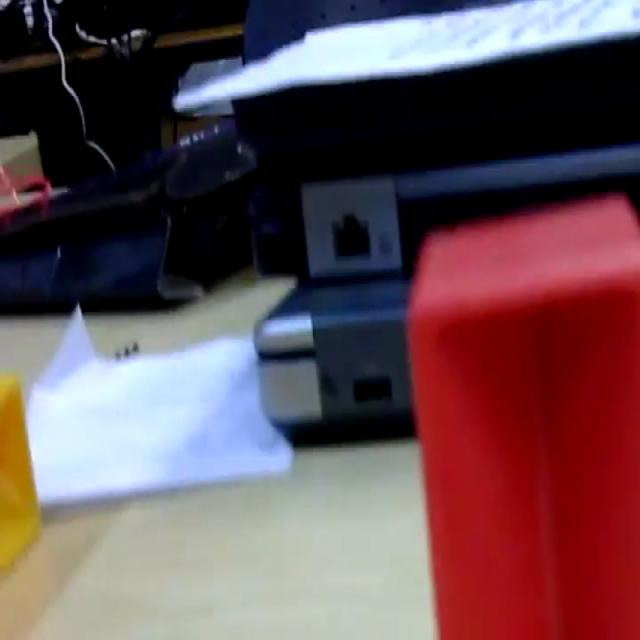red_block: (405, 188, 639, 636)
yellow_block: (0, 370, 42, 570)
